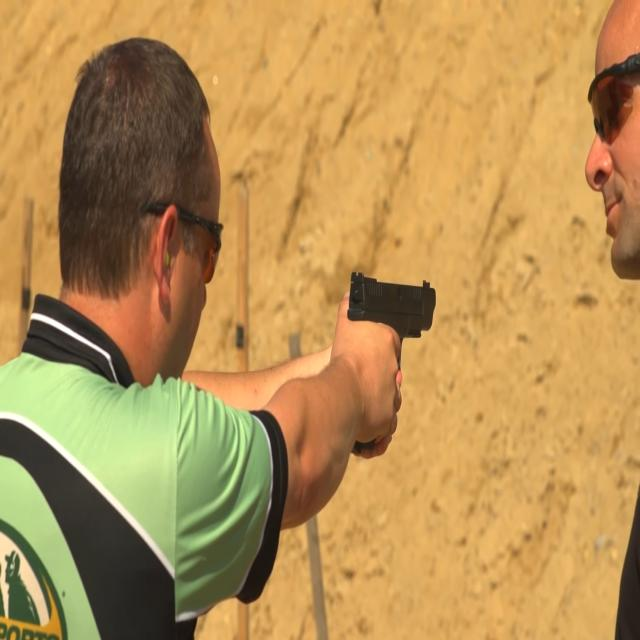Gun_Holder: (326, 246, 452, 417)
Person: (3, 19, 394, 640)
